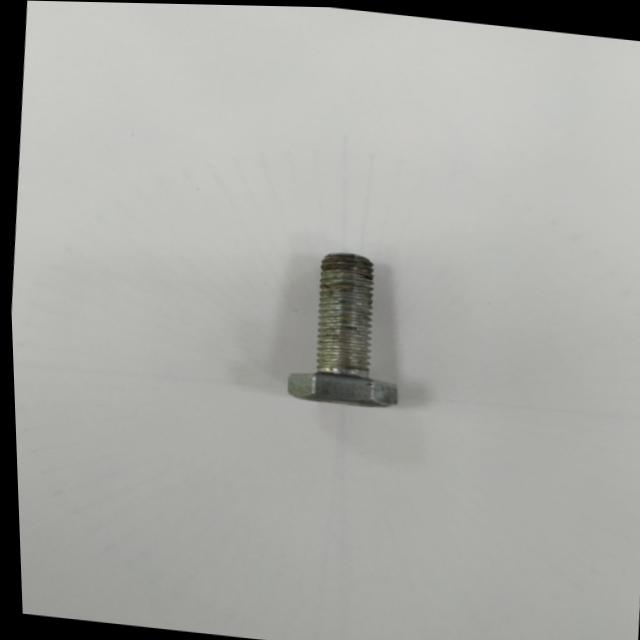Bolt: (285, 251, 395, 405)
